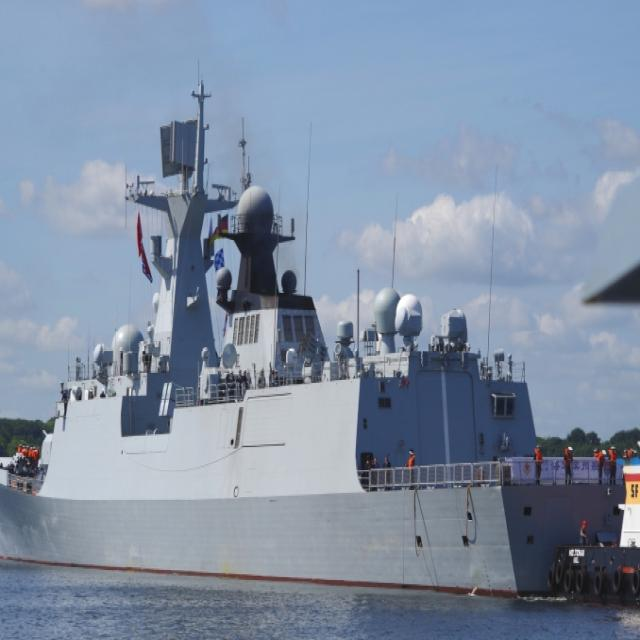Fragata: (1, 69, 635, 602)
